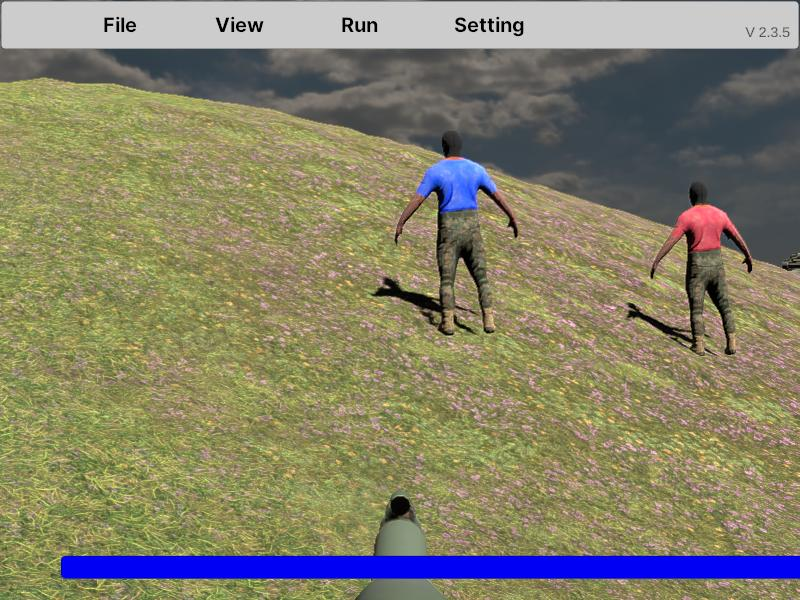Human: (395, 129, 518, 334), (650, 180, 753, 357)
